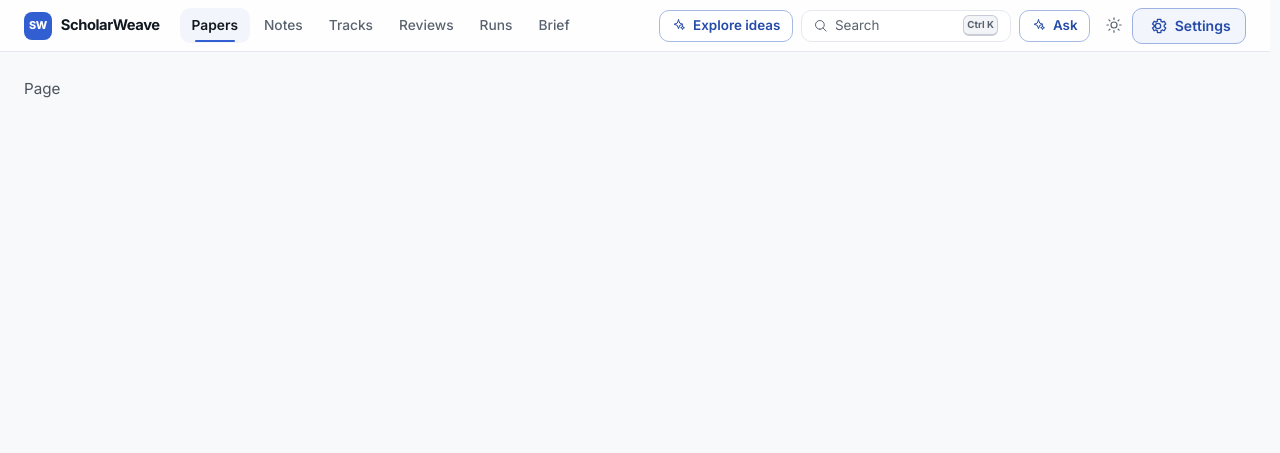
application shell › opens the compact theme picker and supports matching the system theme
This screenshot has width=1280, height=453.
Click the button with class "theme-trigger". click: coordinates (1114, 26)
box: [1098,9,1130,42]
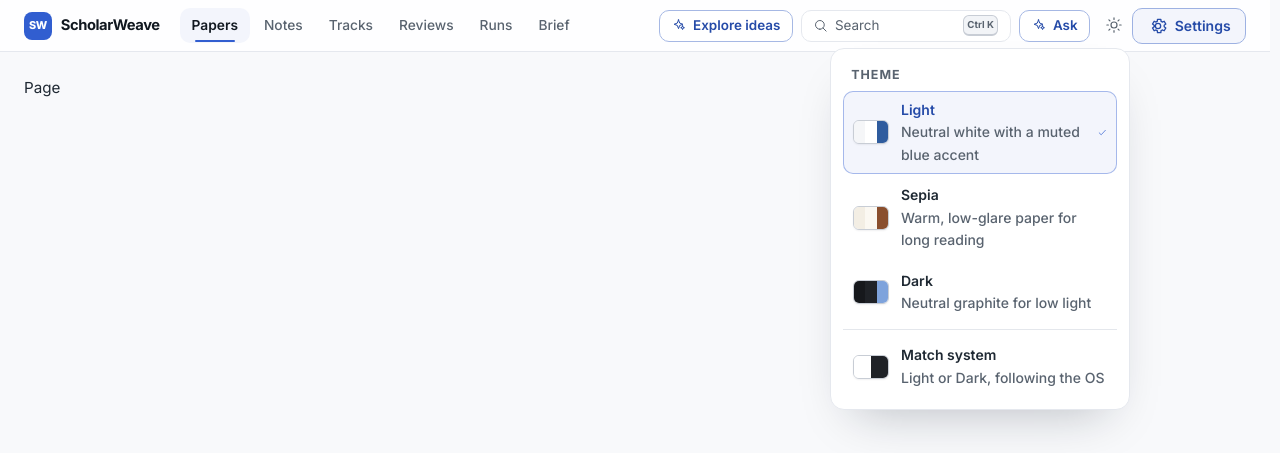
Click the menu item "Match system Light or Dark, following the OS". click: coordinates (980, 367)
box: [843,336,1117,397]
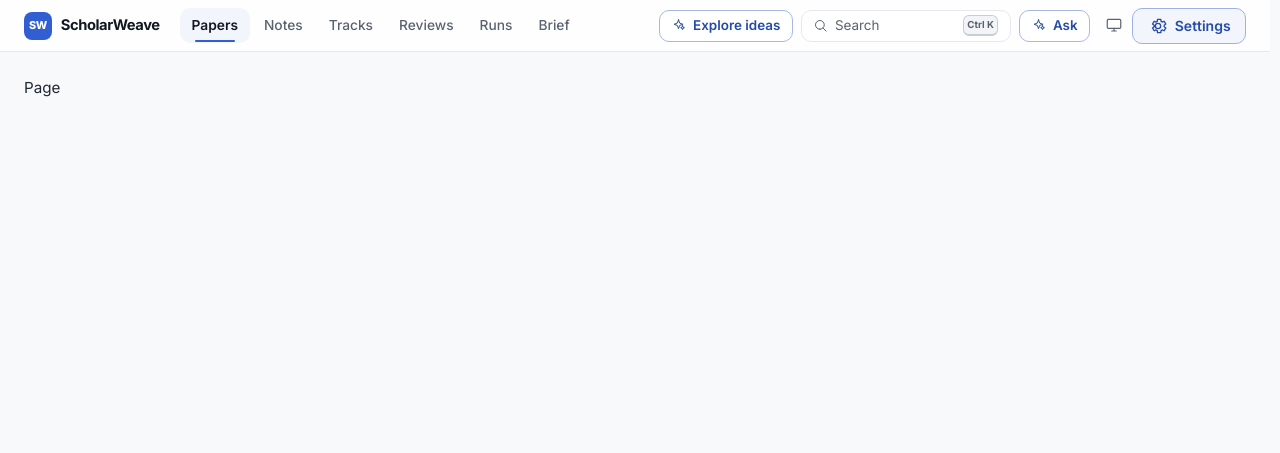
Result: the menu is gone
